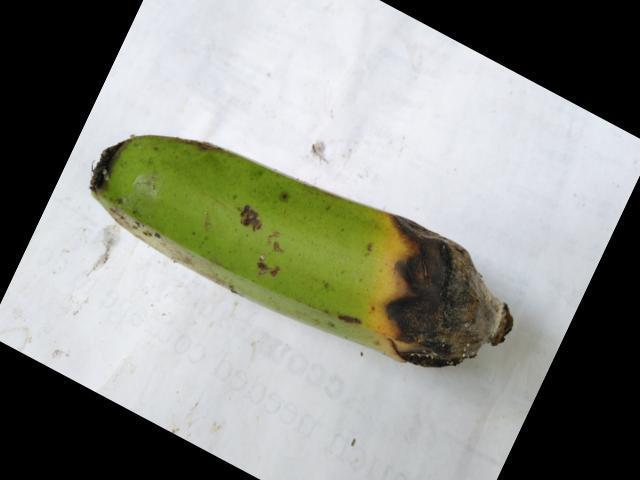rotten: (357, 181, 531, 398), (54, 96, 159, 204)
